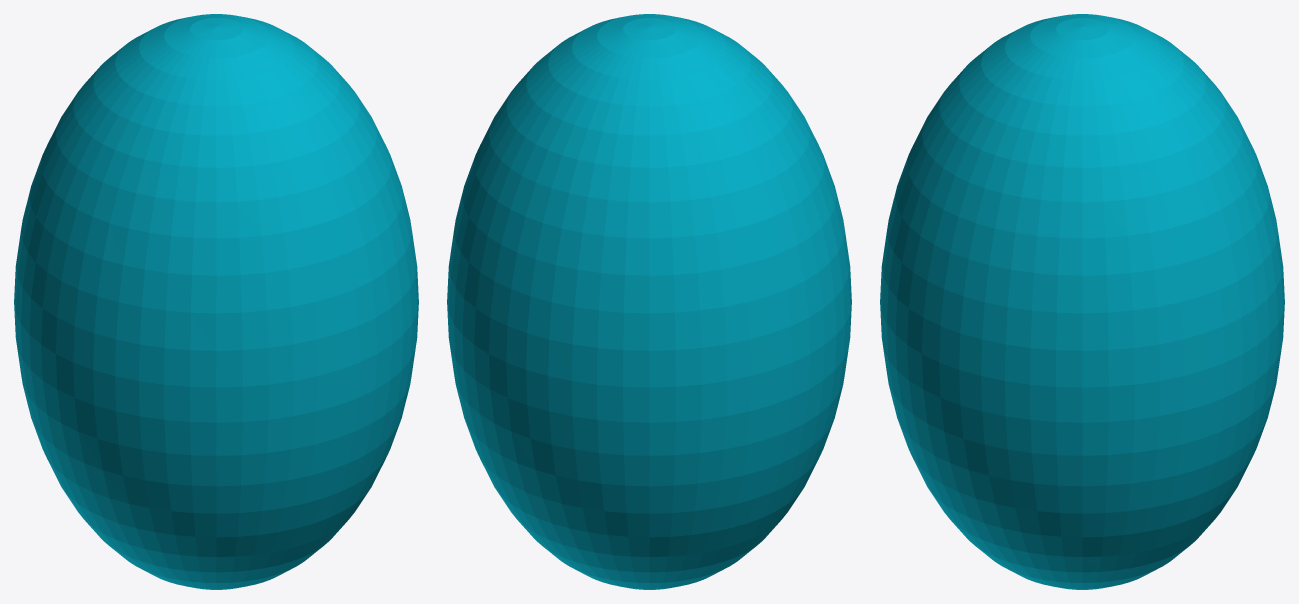
File: Player.glb
The picture shows the model from 3 angles, left to right: view 1: azimuth 30°, elevation 25°; view 2: azimuth 150°, elevation 25°; view 3: azimuth 270°, elevation 25°; orthographic projection.
Visible parts, largest first — view 1: Mesh_Mesh_head_geo.001_lambert2SG.001; view 2: Mesh_Mesh_head_geo.001_lambert2SG.001; view 3: Mesh_Mesh_head_geo.001_lambert2SG.001.
Boxes of the visible parts, x1,y1,x2,y2 form: Mesh_Mesh_head_geo.001_lambert2SG.001: (14,14,418,589); Mesh_Mesh_head_geo.001_lambert2SG.001: (447,14,851,589); Mesh_Mesh_head_geo.001_lambert2SG.001: (880,14,1284,589).
Size of the model in its own units: 0.02 by 0.03 by 0.02.
